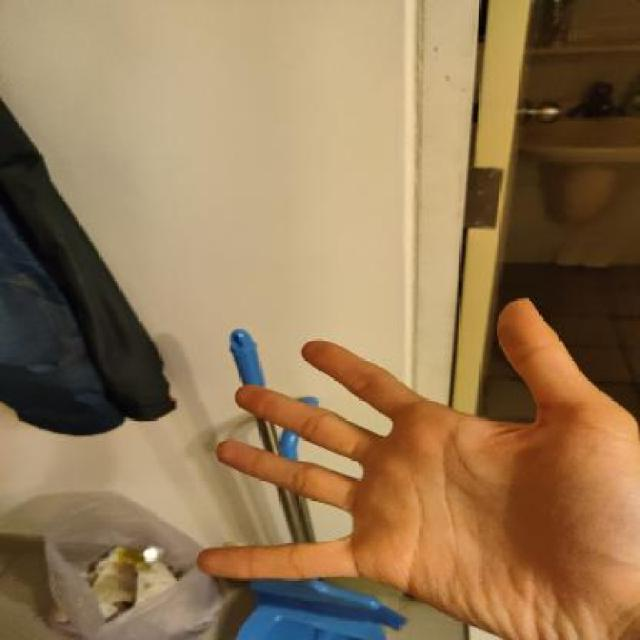bare_hand: (183, 278, 640, 638)
